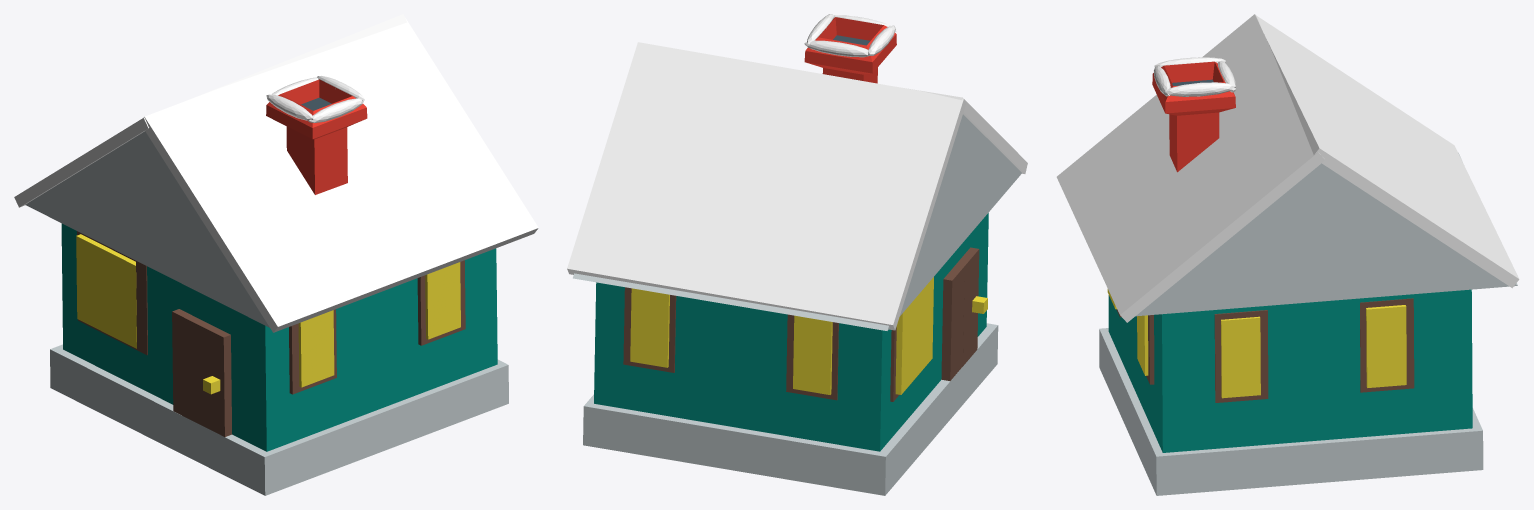
File: casaverde2_lev5.glb
3 views of the same model, side by side, from view 1: azimuth 30°, elevation 25°; view 2: azimuth 150°, elevation 25°; view 3: azimuth 270°, elevation 25° (orthographic).
Parts seen in each view (by area): view 1: casaverde2_lev5; view 2: casaverde2_lev5; view 3: casaverde2_lev5.
Boxes of the visible parts, box(x1,y1,x2,y2) form: casaverde2_lev5: box(14, 14, 538, 495); casaverde2_lev5: box(567, 14, 1027, 495); casaverde2_lev5: box(1056, 14, 1519, 495).
Bounding box in the file's own units: 17.63 × 16.29 × 19.78.
